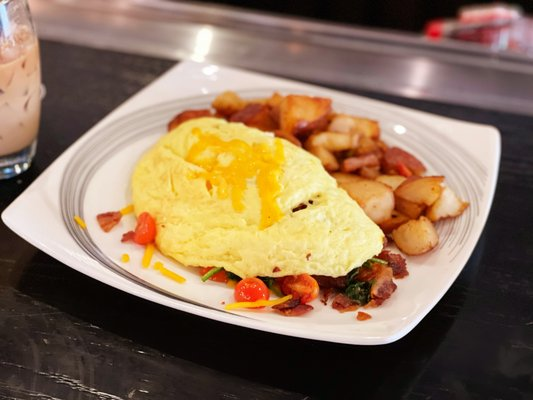soup: (123, 114, 401, 312)
